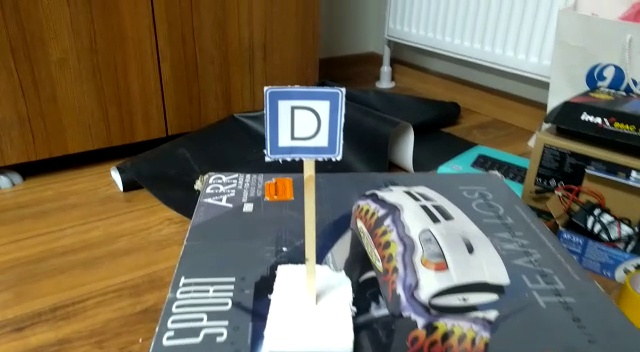durak: (267, 85, 343, 156)
